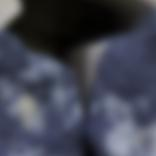broken_brick: (0, 31, 80, 155), (96, 11, 155, 155)
crack: (0, 0, 155, 155)
